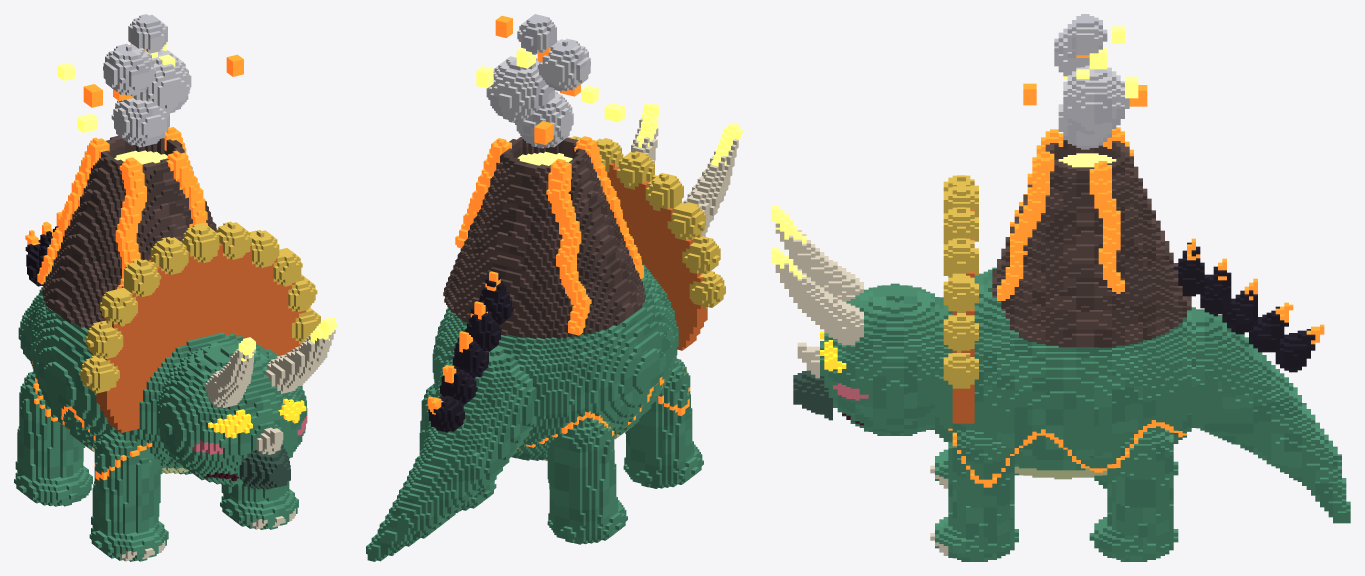
File: vulcanetto_triceratopo.glb
3 renders of one model, left to right at view 1: azimuth 30°, elevation 25°; view 2: azimuth 150°, elevation 25°; view 3: azimuth 270°, elevation 25°, orthographic. The views are drawn at different scales.
Parts seen in each view (by area): view 1: SM_Brainrot_vulcanetto_triceratopo; view 2: SM_Brainrot_vulcanetto_triceratopo; view 3: SM_Brainrot_vulcanetto_triceratopo.
Part boxes in pixels (bbox=[...]): SM_Brainrot_vulcanetto_triceratopo: bbox=[14, 14, 337, 561]; SM_Brainrot_vulcanetto_triceratopo: bbox=[366, 14, 742, 561]; SM_Brainrot_vulcanetto_triceratopo: bbox=[771, 14, 1350, 561].
Size of the model in its own units: 3.84 by 7.56 by 7.86.
1 material, 1 textured.
